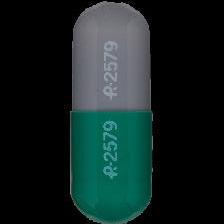0615-1355: (0, 0, 224, 224)
